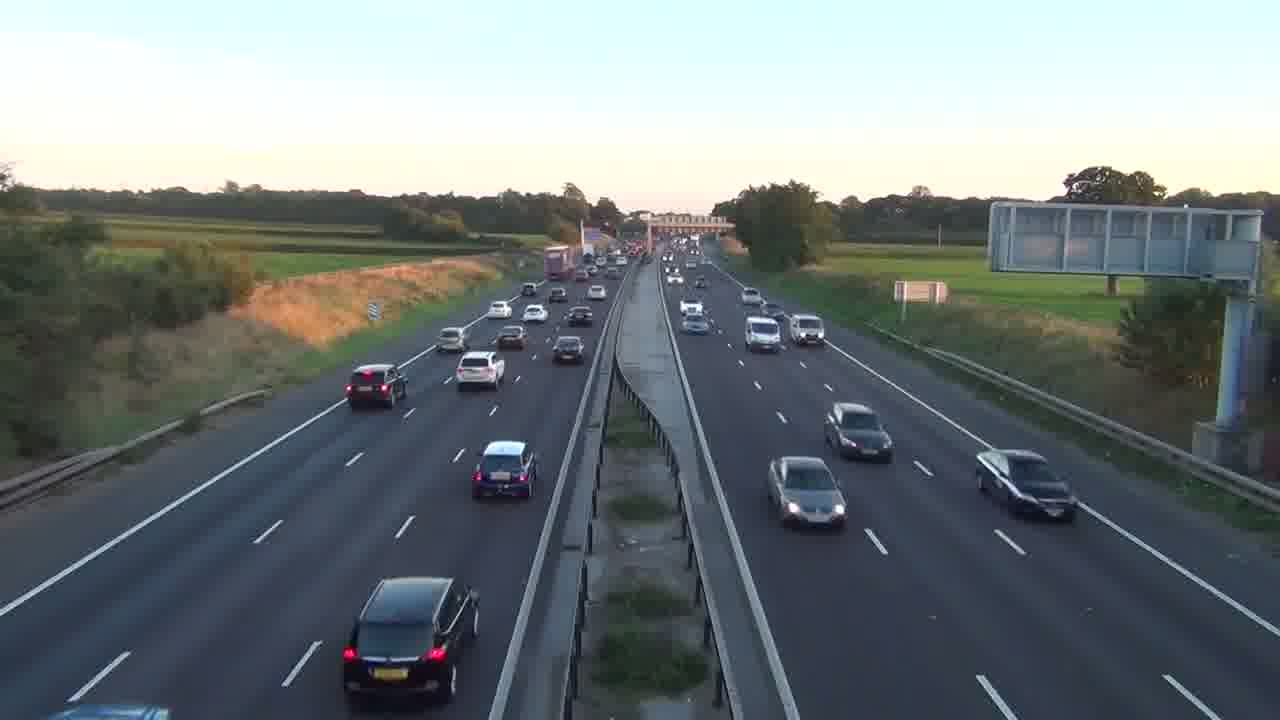car: (767, 455, 848, 530), (823, 400, 894, 462), (470, 439, 537, 500), (454, 350, 506, 391), (551, 334, 584, 364), (563, 304, 593, 326)
truck: (340, 575, 482, 709), (974, 447, 1077, 522), (470, 439, 537, 500)
